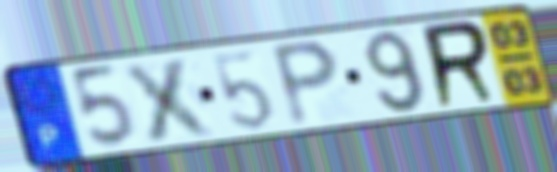5: (65, 59, 138, 153), (208, 47, 277, 131)
9: (359, 28, 429, 117)
P: (267, 37, 343, 130)
R: (418, 17, 503, 113)
X: (119, 53, 222, 144)
